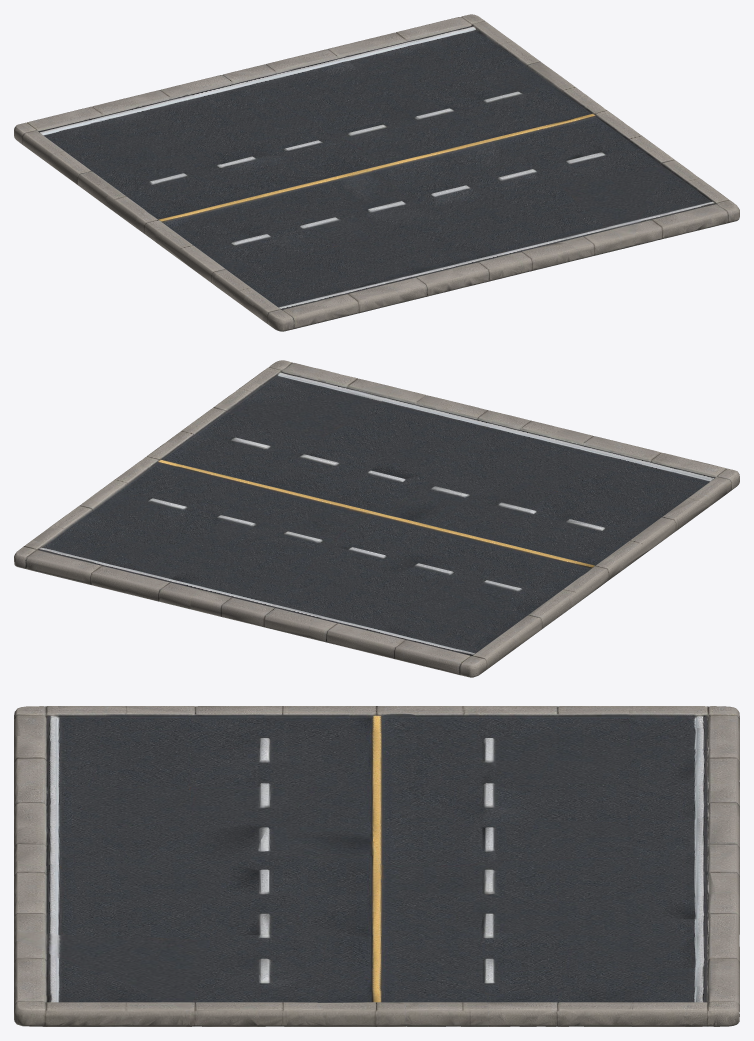
Rendered from roadseg.glb.
3 renders of one model, top to bottom at view 1: azimuth 30°, elevation 25°; view 2: azimuth 150°, elevation 25°; view 3: azimuth 270°, elevation 25°, orthographic. The views are drawn at different scales.
Visible parts, largest first — view 1: mesh_node; view 2: mesh_node; view 3: mesh_node.
Boxes of the visible parts, bbox=[...] form: mesh_node: bbox=[14, 14, 739, 331]; mesh_node: bbox=[14, 360, 739, 677]; mesh_node: bbox=[14, 706, 739, 1026].
Size of the model in its own units: 1.9 by 0.0479 by 1.9.
1 material, 1 textured.
